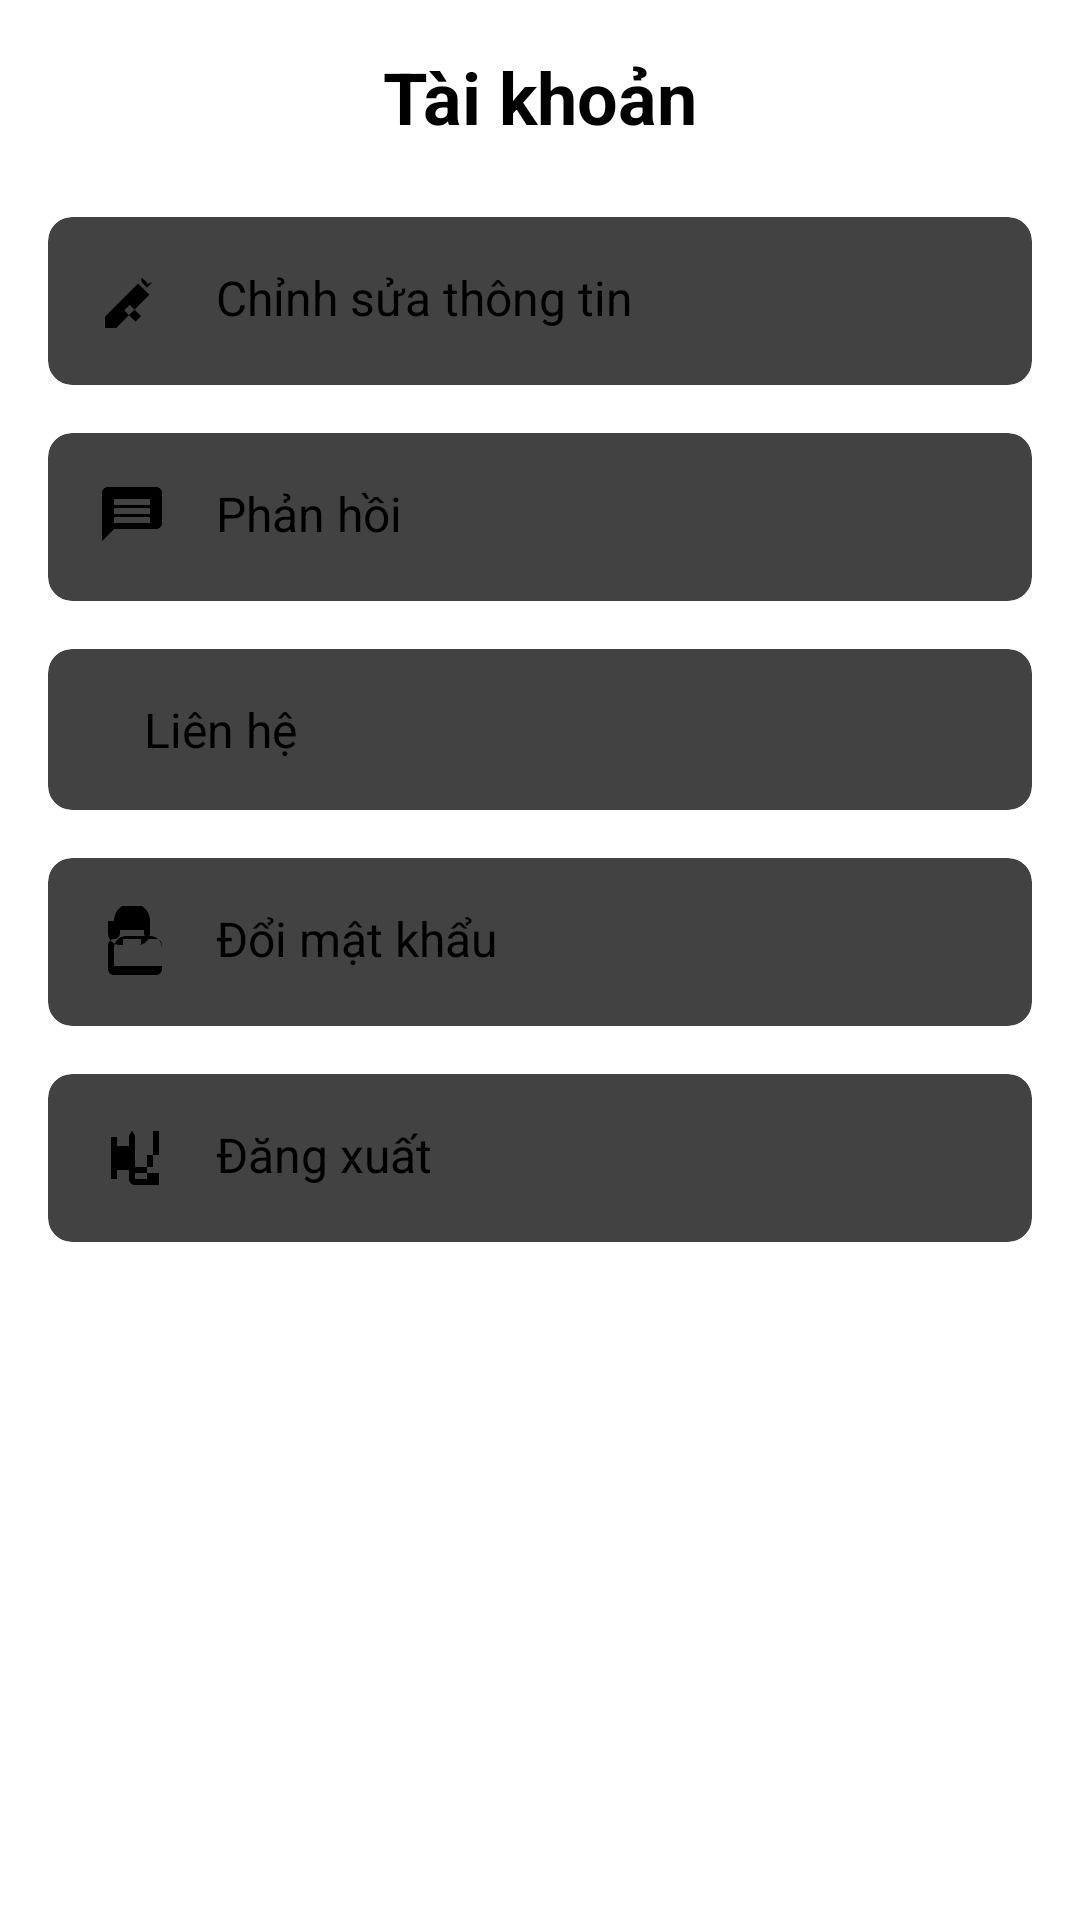

Locate icon controls on the screen. Image size 1080 x 1920, boxes as (x1, y1, x2, y2).
change password: (108, 906, 162, 975)
edit: (105, 278, 152, 328)
feedback: (102, 487, 162, 541)
